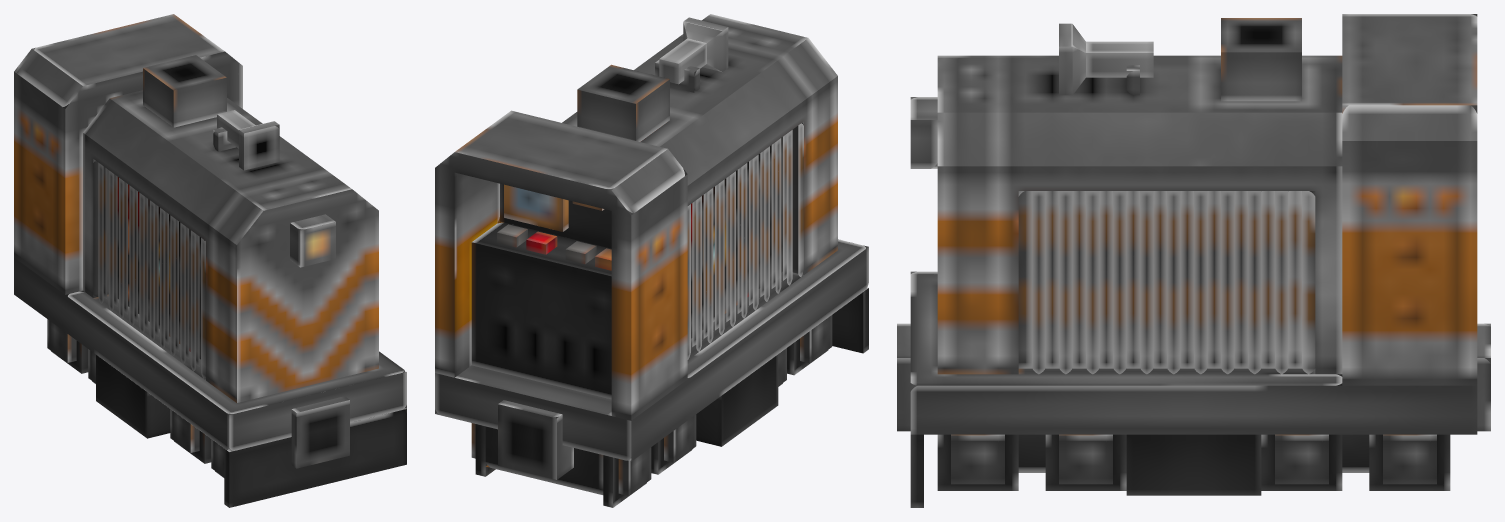
File: diesel_locomotive.obj
3 views of the same model, side by side, from view 1: azimuth 30°, elevation 25°; view 2: azimuth 150°, elevation 25°; view 3: azimuth 270°, elevation 25° (orthographic). The views are drawn at different scales.
Visible parts, largest first — view 1: Cube.007; view 2: Cube.007; view 3: Cube.007.
Part boxes in pixels (x1,y1,x2,y2): Cube.007: (14, 14, 406, 507); Cube.007: (435, 14, 868, 507); Cube.007: (897, 14, 1490, 507).
Bounding box in the file's own units: 12.5 × 21.25 × 27.5.
